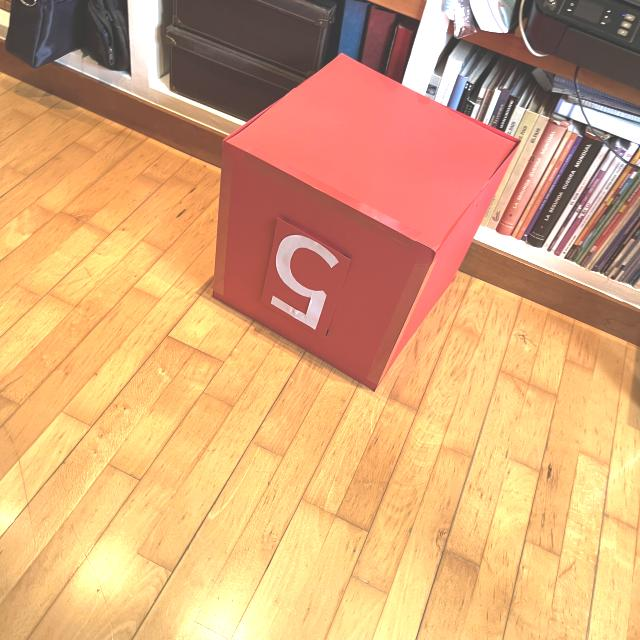box: (209, 50, 521, 392)
